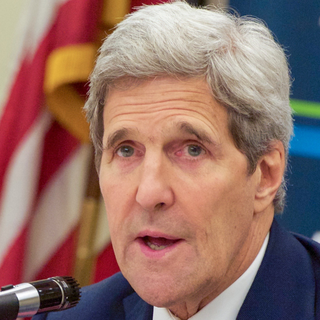eye: (164, 132, 220, 169), (102, 134, 147, 167)
